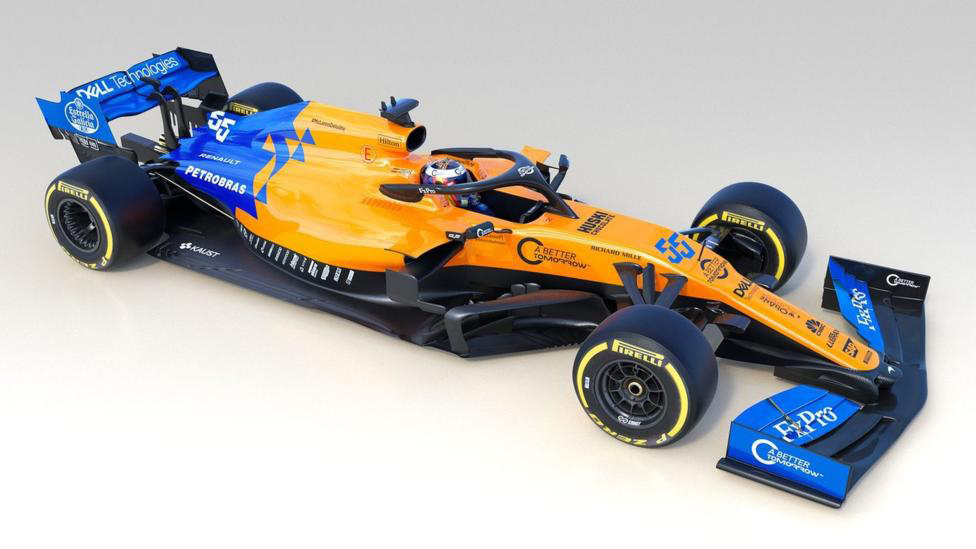F1 Car: (34, 43, 934, 507)
